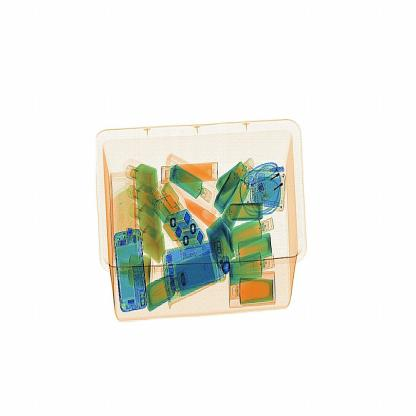pliers: (122, 221, 140, 247)
